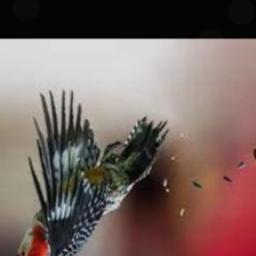Woodpecker: (1, 89, 168, 256)
